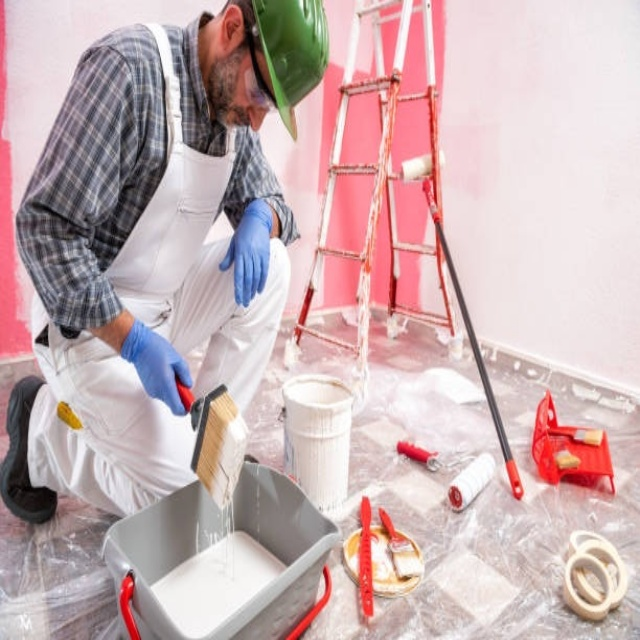Gafas: (243, 44, 275, 118)
Guantes: (120, 317, 193, 415), (218, 199, 274, 308)
Sin_mascara: (224, 102, 255, 135)
